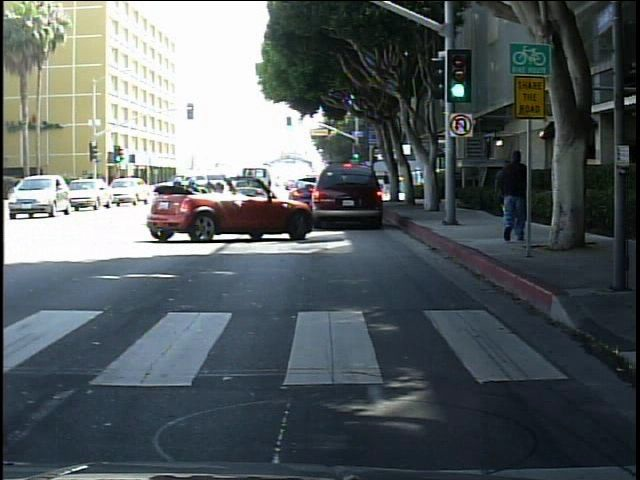person: (496, 139, 531, 241), (494, 148, 520, 227)
